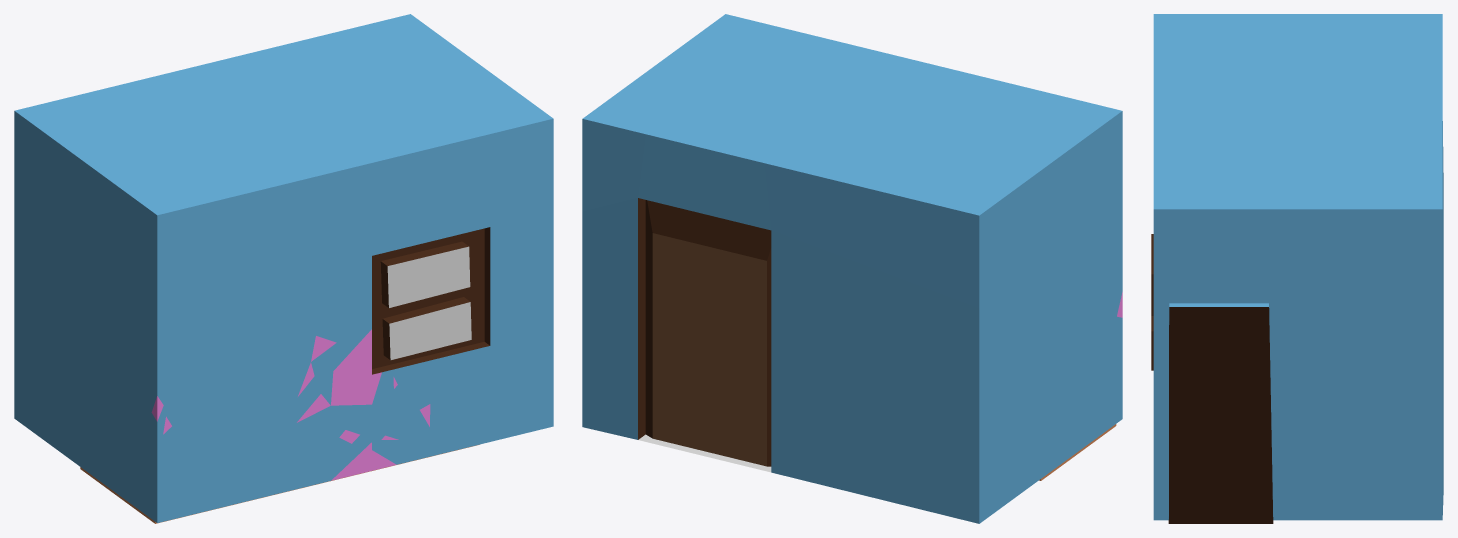
Rendered from map_herroom.fbx.
3 renders of one model, left to right at view 1: azimuth 30°, elevation 25°; view 2: azimuth 150°, elevation 25°; view 3: azimuth 270°, elevation 25°, orthographic.
Visible parts, largest first — view 1: room; view 2: room; view 3: room.
Part boxes in pixels (bbox=[...]): room: bbox=[14, 14, 553, 522]; room: bbox=[582, 14, 1122, 523]; room: bbox=[1151, 14, 1443, 523].
Size of the model in its own units: 178 by 131 by 110.
